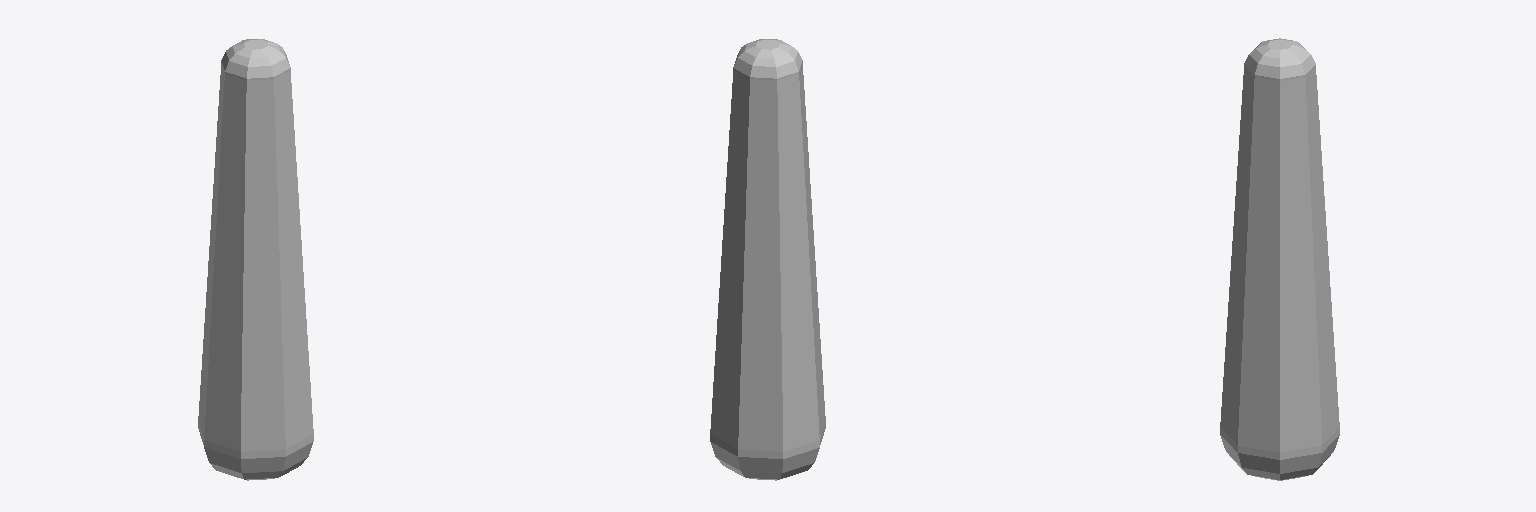
Rendered from branch.obj.
3 views of the same model, side by side, from view 1: azimuth 30°, elevation 25°; view 2: azimuth 150°, elevation 25°; view 3: azimuth 270°, elevation 25° (orthographic).
Visible parts, largest first — view 1: Cylinder1; view 2: Cylinder1; view 3: Cylinder1.
Boxes of the visible parts, box(x1,y1,x2,y2) form: Cylinder1: box(198, 39, 313, 480); Cylinder1: box(710, 39, 825, 480); Cylinder1: box(1220, 38, 1339, 480).
Bounding box in the file's own units: 0.6 × 2.34 × 0.6.